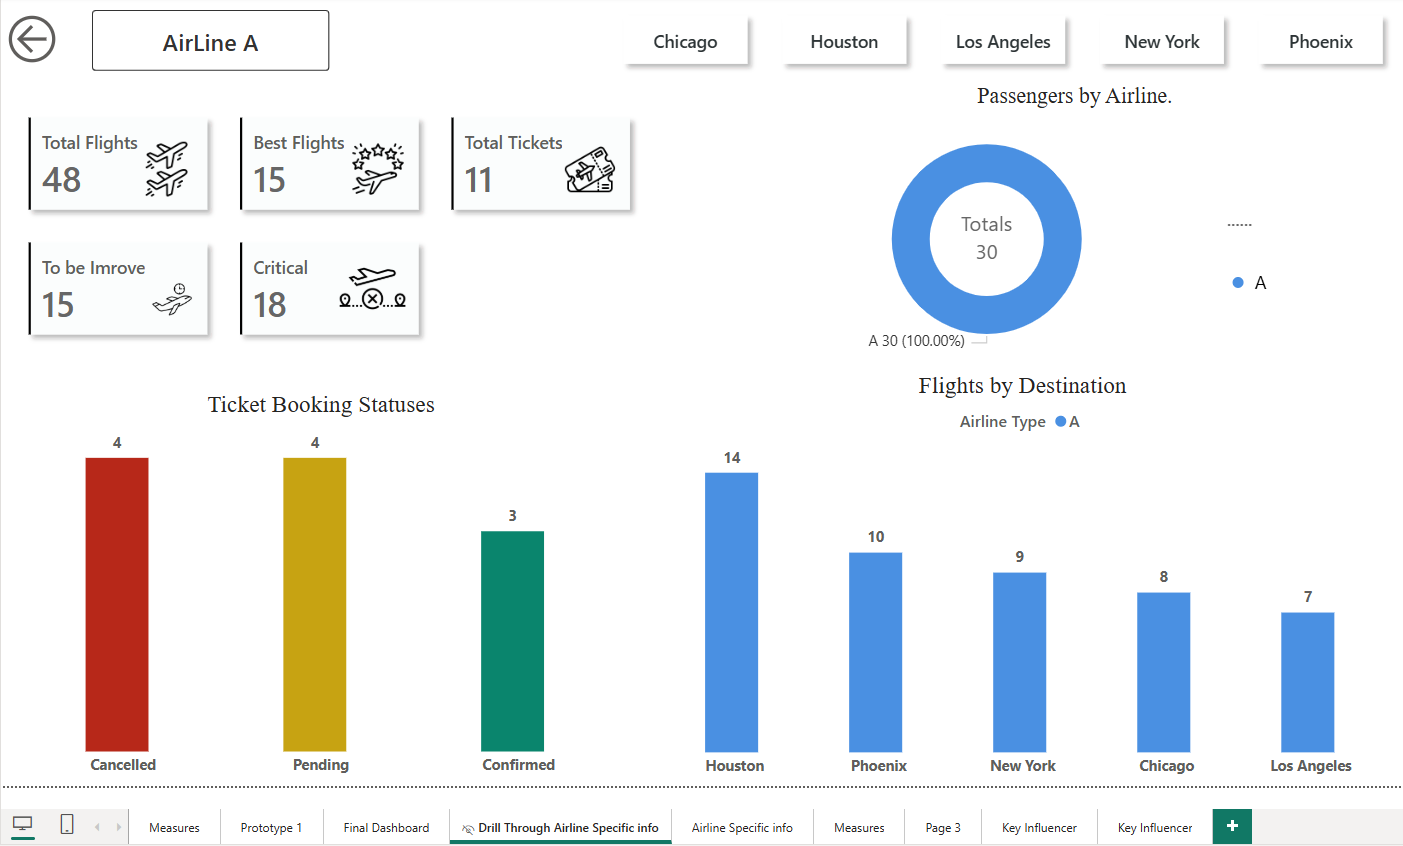

Layout of this report page (visuals, bound fields, positions):
{"tool":"powerbi","page":{"name":"Drill Through Airline Specific info","canvas":[1280,720],"ordinal":3},"visuals":[{"type":"DonutChartGMO1461469098694","title":"Passengers by Airline.","fields":{"Category":["Flight_Information.Airline Type"],"Y":["CountNonNull(Passenger_Information.PassengerID)"]},"box":[681.3,78.9,598.7,263.1],"z":0},{"type":"columnChart","title":"Flights by Airline and Destination","fields":{"Category":["Flight_Information.Destination"],"Series":["Flight_Information.Airline Type"],"Y":["CountNonNull(Flight_Information.FlightID)"]},"box":[584.8,342.1,695.2,377.9],"z":1000},{"type":"shape","box":[113.4,11.8,328.4,55.3],"z":2000},{"type":"clusteredColumnChart","title":"Ticket Booking Statuses","fields":{"Category":["Ticket_Information.BookingStatus"],"Y":["CountNonNull(Ticket_Information.FlightID)"]},"box":[0,360.1,584.2,360.1],"z":3000},{"type":"advancedSlicerVisual","title":"Destination","fields":{"Values":["Flight_Information.Destination"]},"box":[542.5,0,737.5,78.9],"z":6000},{"type":"actionButton","box":[0.9,11.8,78.9,55.3],"z":7000},{"type":"cardVisual","fields":{"Data":["measures (2).Total Flights","measures (2).Best Flights","measures (2).To Be Improved Flights","measures (2).critical Flights","measures (2).Total Tickets"]},"box":[0,101.6,584.2,233.1],"z":7001}]}

Visuals, with their boxes on the page's 1280x720 design canvas (x1, y1, x2, y2). These are canvas units, not pixel positions in the 1403x846 screenshot, which may show the page scaled, cropped or inside an application window:
"Passengers by Airline." DonutChartGMO1461469098694: <bbox>681, 79, 1280, 342</bbox>
"Flights by Airline and Destination" columnChart: <bbox>585, 342, 1280, 720</bbox>
shape: <bbox>113, 12, 442, 67</bbox>
"Ticket Booking Statuses" clusteredColumnChart: <bbox>0, 360, 584, 720</bbox>
"Destination" advancedSlicerVisual: <bbox>542, 0, 1280, 79</bbox>
actionButton: <bbox>1, 12, 80, 67</bbox>
cardVisual - measures (2).Total Flights x measures (2).Best Flights: <bbox>0, 102, 584, 335</bbox>
